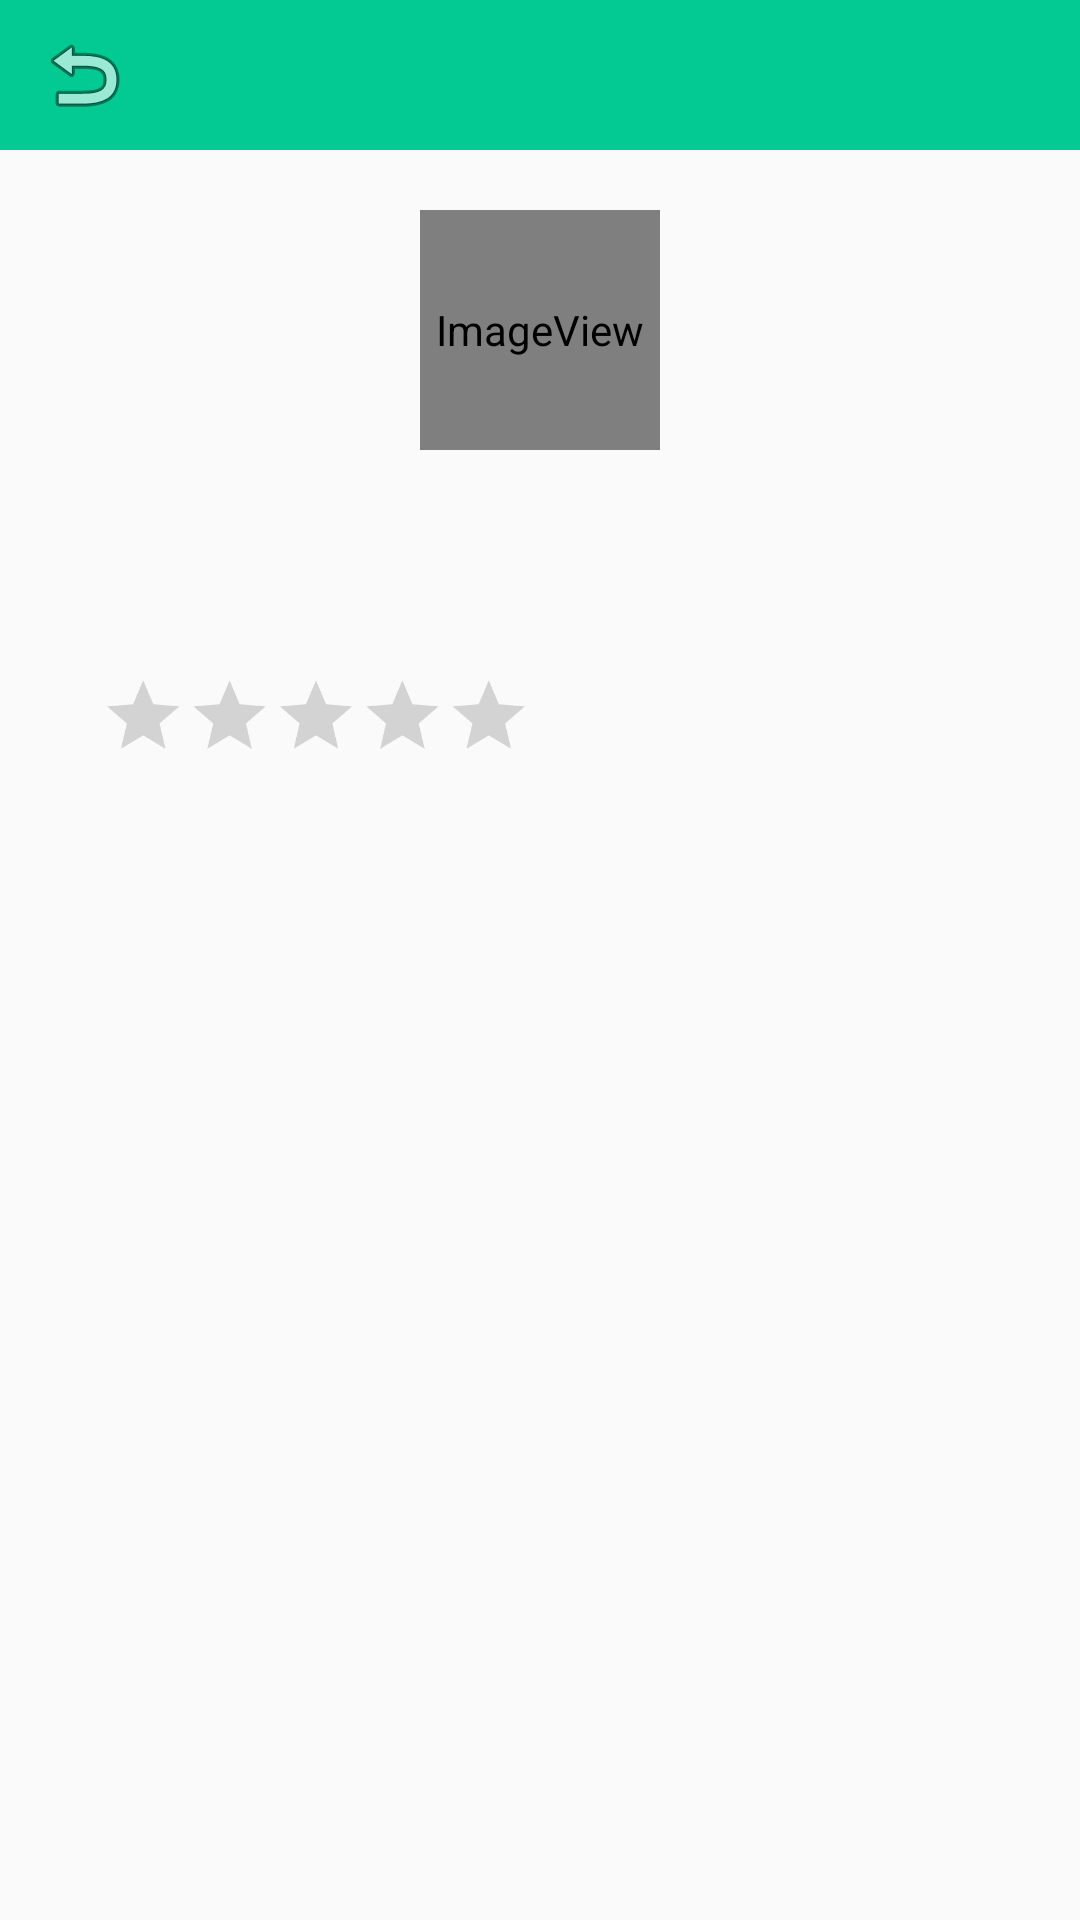

Named icons in this screenshot (1080 × 1920) and their centers, point (x, y):
revert: point (85, 75)
